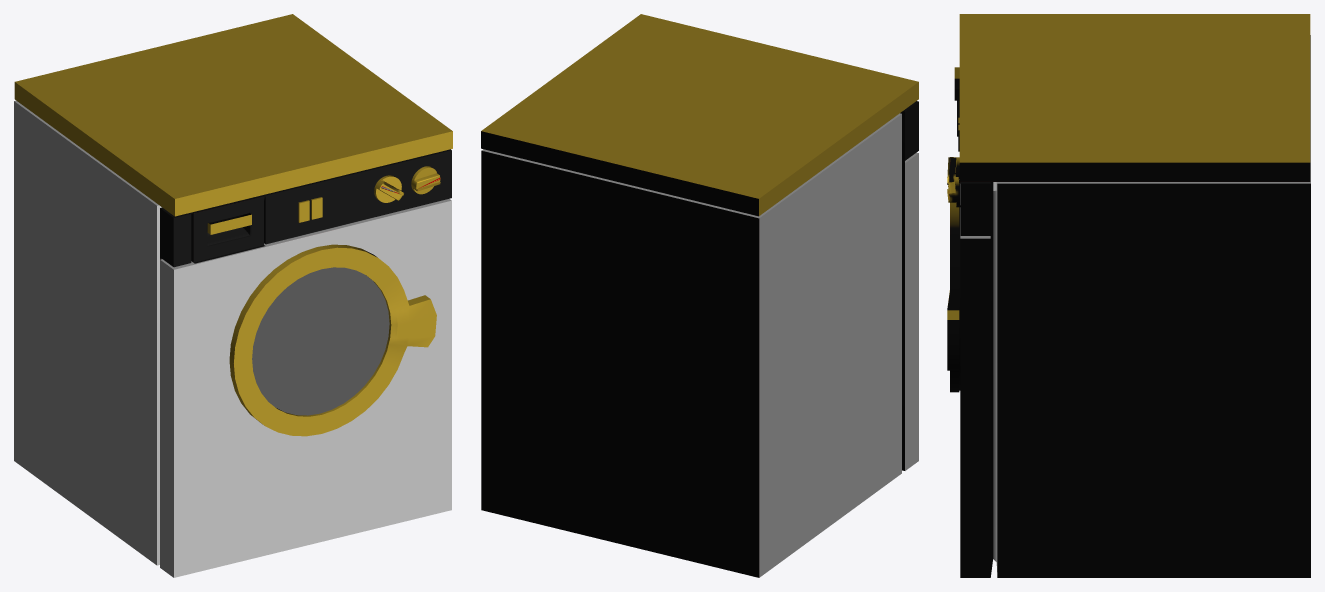
Rendered from Washing machineTranspChannel.fbx.
3 renders of one model, left to right at view 1: azimuth 30°, elevation 25°; view 2: azimuth 150°, elevation 25°; view 3: azimuth 270°, elevation 25°, orthographic. The views are drawn at different scales.
Parts seen in each view (by area): view 1: WashingMachine; view 2: WashingMachine; view 3: WashingMachine.
Boxes of the visible parts, x1=… form: WashingMachine: x1=14, y1=14, x2=452, y2=577; WashingMachine: x1=481, y1=14, x2=918, y2=577; WashingMachine: x1=947, y1=14, x2=1310, y2=577.
Size of the model in its own units: 64.61 by 84.03 by 66.66.
1 material, 1 textured.
